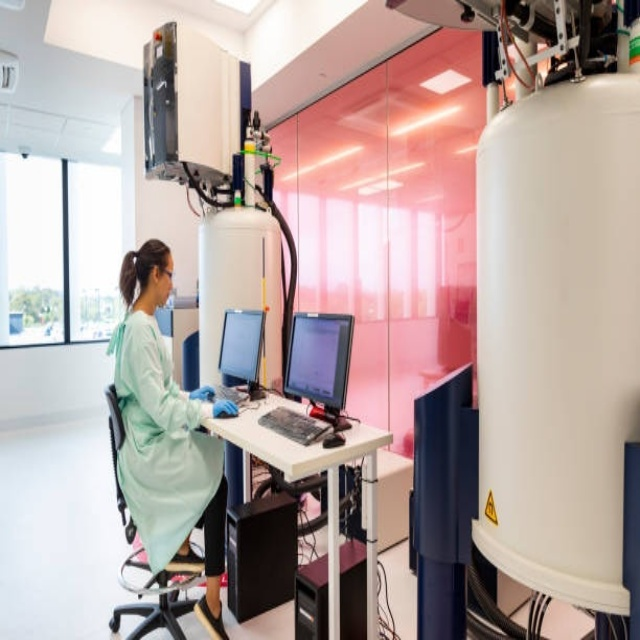Gafas: (158, 268, 174, 280)
Guantes: (213, 398, 239, 418), (189, 385, 215, 402)
